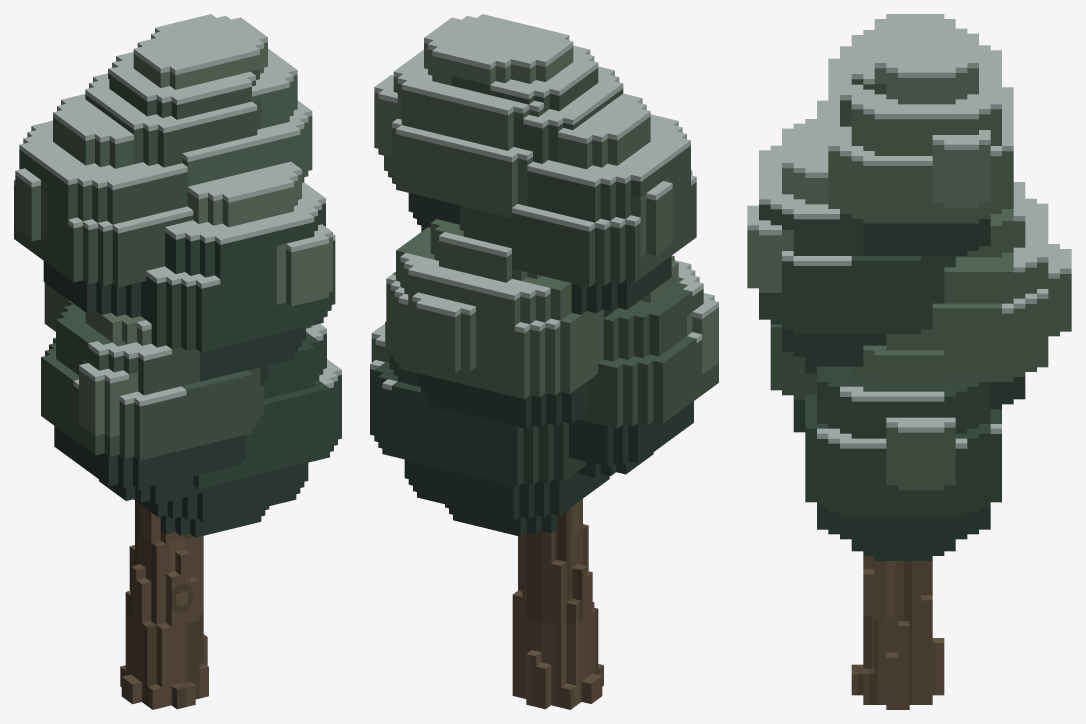
File: juniper_ancient_winter_picked.glb
The picture shows the model from 3 angles, left to right: view 1: azimuth 30°, elevation 25°; view 2: azimuth 150°, elevation 25°; view 3: azimuth 270°, elevation 25°; orthographic projection. The views are drawn at different scales.
Visible parts, largest first — view 1: VoxelVisual; view 2: VoxelVisual; view 3: VoxelVisual.
Boxes of the visible parts, x1=… form: VoxelVisual: x1=14, y1=14, x2=341, y2=709; VoxelVisual: x1=370, y1=14, x2=718, y2=709; VoxelVisual: x1=747, y1=14, x2=1071, y2=709.
Size of what is drawn, in the model's own units: 7.5 by 16 by 7.
